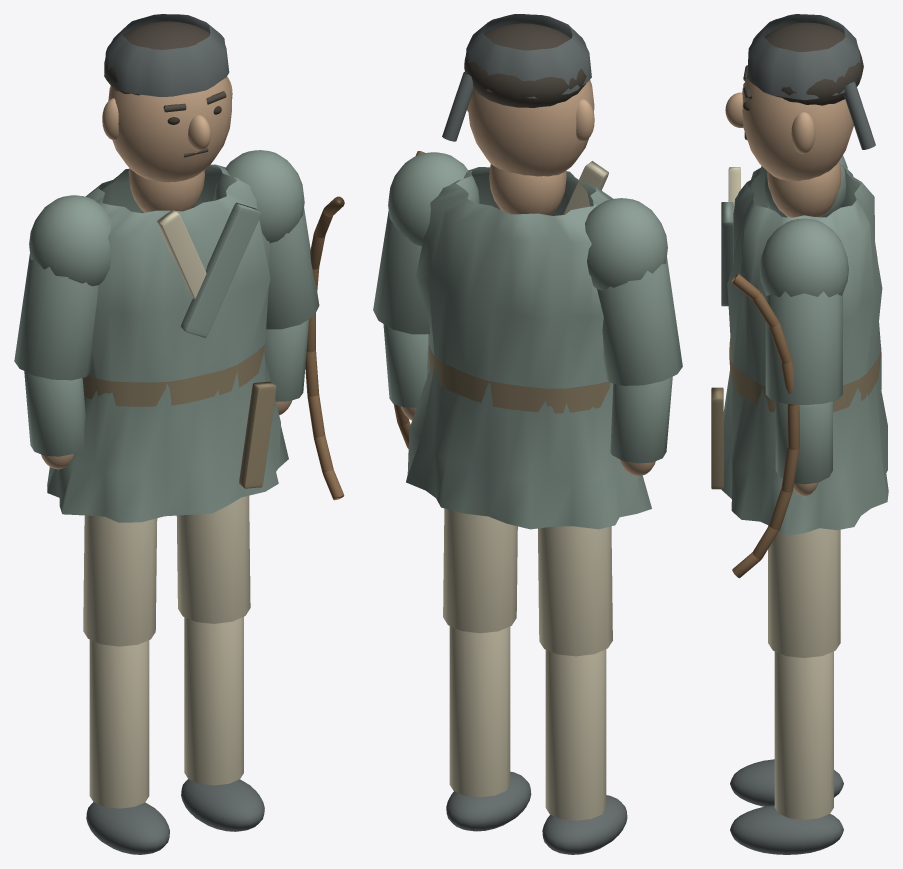
The model's file is archer.glb.
3 views of the same model, side by side, from view 1: azimuth 30°, elevation 25°; view 2: azimuth 150°, elevation 25°; view 3: azimuth 270°, elevation 25° (orthographic).
Visible parts, largest first — view 1: Cross-collar working coat.007, shin.014, shin.015, thigh.014, thigh.015, Face.007, upper.014, Soft cloth cap.005, Shoulder.014, Shoulder.015, fore.014, upper.015 (+10 smaller); view 2: Cross-collar working coat.007, shin.014, shin.015, thigh.014, thigh.015, upper.014, Face.007, Shoulder.014, Soft cloth cap.005, Hair crown.007, Shoulder.015, fore.014 (+9 smaller); view 3: Cross-collar working coat.007, shin.015, thigh.015, upper.015, Face.007, Shoulder.015, Soft cloth cap.005, Cloth shoe.015, fore.015, Hair crown.007, Neck.007, Cloth shoe.014 (+15 smaller).
Boxes of the visible parts, x1,y1,x2,y2 form: Cross-collar working coat.007: (47,164,288,522); shin.014: (89,639,149,808); shin.015: (184,616,243,785); thigh.014: (83,515,157,646); thigh.015: (176,495,250,623); Face.007: (108,76,231,182); upper.014: (14,254,98,380); Soft cloth cap.005: (104,14,229,96); Shoulder.014: (29,195,111,286); Shoulder.015: (214,150,304,242); fore.014: (24,371,85,456); upper.015: (266,208,319,329); Cross-collar working coat.007: (406,167,651,529); shin.014: (545,649,606,820); shin.015: (449,626,510,797); thigh.014: (538,526,612,656); thigh.015: (443,508,517,633); upper.014: (597,257,682,385); Face.007: (468,80,594,176); Shoulder.014: (585,198,667,290); Soft cloth cap.005: (465,14,591,98); Hair crown.007: (464,23,586,107); Shoulder.015: (388,152,479,246); fore.014: (610,376,672,463); Cross-collar working coat.007: (721,164,888,535); shin.015: (774,651,833,819); thigh.015: (768,525,840,657); upper.015: (765,291,842,405); Face.007: (742,75,853,181); Shoulder.015: (759,218,848,297); Soft cloth cap.005: (747,14,861,100); Cloth shoe.015: (730,805,843,854); fore.015: (775,401,832,484); Hair crown.007: (764,22,863,105); Neck.007: (767,161,841,217); Cloth shoe.014: (730,759,843,806).
Size of the model in its own units: 0.6841 by 1.77 by 0.3575.
